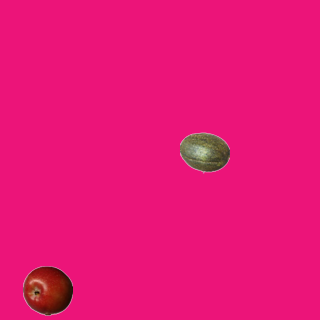Apple Braeburn: (22, 265, 72, 315)
Melon Piel de Sapo: (179, 127, 229, 177)
